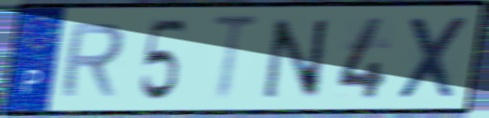4: (334, 15, 389, 102)
5: (136, 17, 190, 102)
N: (261, 16, 331, 101)
R: (56, 20, 129, 99)
T: (208, 12, 265, 106)
X: (394, 14, 471, 102)
